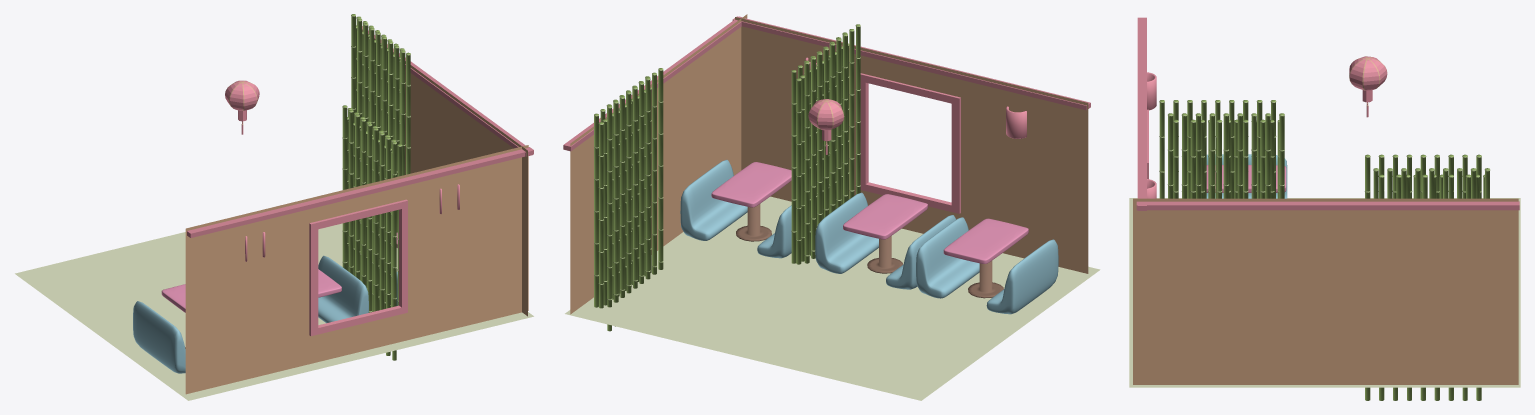
The model's file is ALL_1.fbx.
3 views of the same model, side by side, from view 1: azimuth 30°, elevation 25°; view 2: azimuth 150°, elevation 25°; view 3: azimuth 270°, elevation 25° (orthographic). The views are drawn at different scales.
Parts seen in each view (by area): view 1: wall, floor, wall.001, bamboo, bamboo.003, Cube, Cube.004, sofa.002, bamboo.001, Sofa.001, bamboo.004, Cube.005 (+3 smaller); view 2: floor, wall, wall.001, bamboo.003, bamboo, bamboo.004, Cube, bamboo.001, Sofa.000, Sofa.001, Sofa.002, sofa.002 (+14 smaller); view 3: wall.001, bamboo.002, bamboo.001, Cube.005, bamboo, floor, bamboo.003, Cube.004, bamboo.005, Lamp, bamboo.004, Table.002 (+1 smaller).
Boxes of the visible parts, bbox=[...] form: wall: bbox=[185, 145, 528, 394]; floor: bbox=[15, 223, 533, 400]; wall.001: bbox=[356, 25, 527, 316]; bamboo: bbox=[342, 105, 396, 360]; bamboo.003: bbox=[351, 14, 405, 232]; Cube: bbox=[309, 199, 407, 336]; Cube.004: bbox=[187, 147, 533, 237]; sofa.002: bbox=[133, 301, 185, 373]; bamboo.001: bbox=[347, 117, 392, 311]; Sofa.001: bbox=[318, 255, 368, 323]; bamboo.004: bbox=[356, 26, 400, 143]; Cube.005: bbox=[362, 26, 532, 156]; floor: bbox=[565, 196, 1100, 400]; wall: bbox=[735, 17, 1088, 273]; wall.001: bbox=[570, 14, 747, 314]; bamboo.003: bbox=[607, 68, 663, 331]; bamboo: bbox=[804, 24, 860, 263]; bamboo.004: bbox=[598, 87, 651, 308]; Cube: bbox=[860, 73, 960, 213]; bamboo.001: bbox=[796, 43, 849, 264]; Sofa.000: bbox=[680, 159, 747, 240]; Sofa.001: bbox=[815, 192, 878, 273]; Sofa.002: bbox=[916, 217, 979, 298]; sofa.002: bbox=[986, 239, 1058, 314]; wall.001: bbox=[1133, 198, 1518, 384]; bamboo.002: bbox=[1167, 113, 1284, 198]; bamboo.001: bbox=[1173, 119, 1279, 198]; Cube.005: bbox=[1136, 201, 1519, 210]; bamboo: bbox=[1159, 100, 1276, 198]; floor: bbox=[1129, 198, 1520, 387]; bamboo.003: bbox=[1364, 154, 1481, 400]; Cube.004: bbox=[1137, 17, 1146, 210]; bamboo.005: bbox=[1373, 168, 1490, 198]; Lamp: bbox=[1349, 56, 1387, 117]; bamboo.004: bbox=[1378, 174, 1484, 198]; Table.002: bbox=[1206, 165, 1286, 192].
Size of the model in its own units: 2236 by 1379 by 1930.
